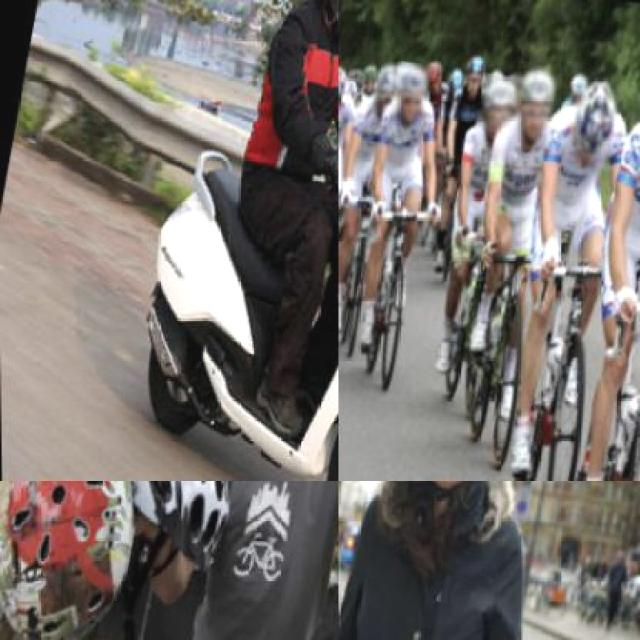With Helmet: (560, 70, 628, 184), (502, 63, 562, 152), (386, 60, 434, 134), (472, 74, 523, 140), (458, 53, 490, 109), (371, 60, 402, 117), (338, 57, 352, 118)
